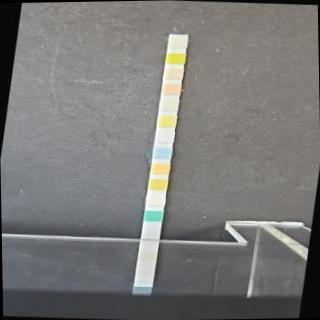mark: (164, 52, 186, 64), (150, 161, 170, 174), (145, 193, 165, 206), (167, 37, 188, 49), (161, 82, 180, 95), (157, 114, 176, 127), (155, 130, 174, 143), (163, 68, 183, 80), (148, 178, 168, 190), (142, 210, 162, 222), (159, 98, 178, 110), (153, 146, 172, 158)
